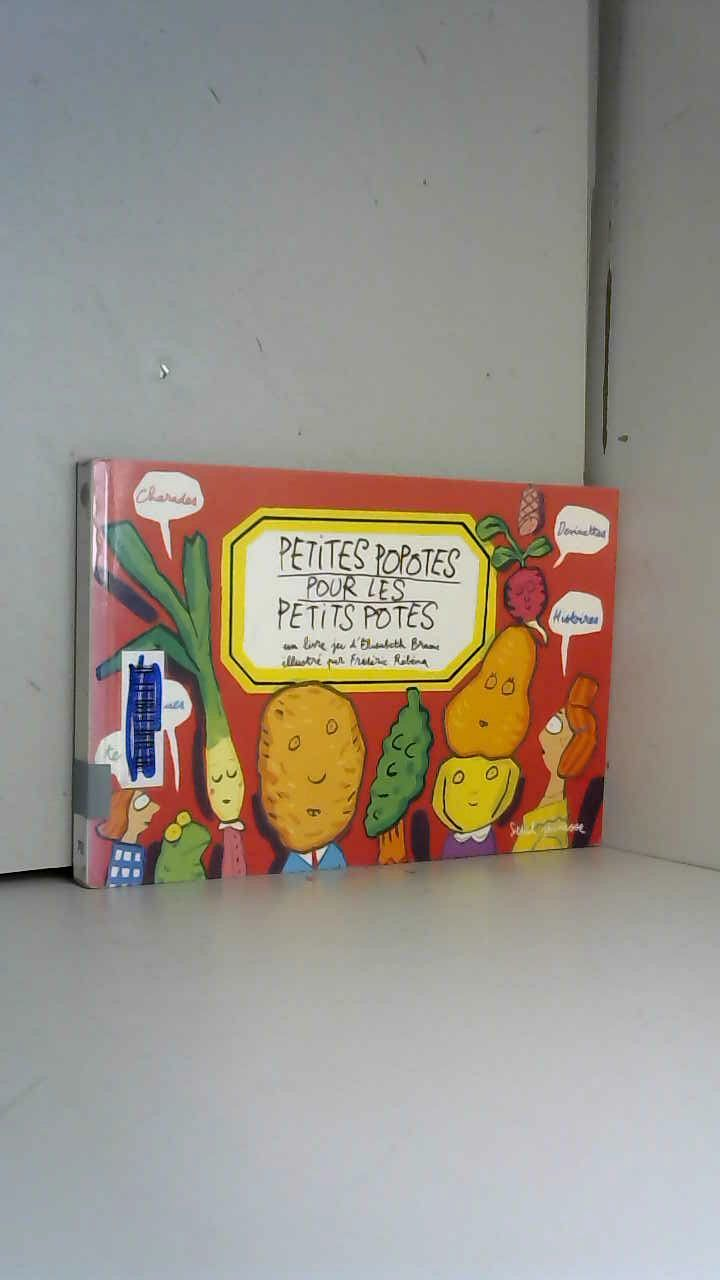book: (45, 431, 646, 908)
